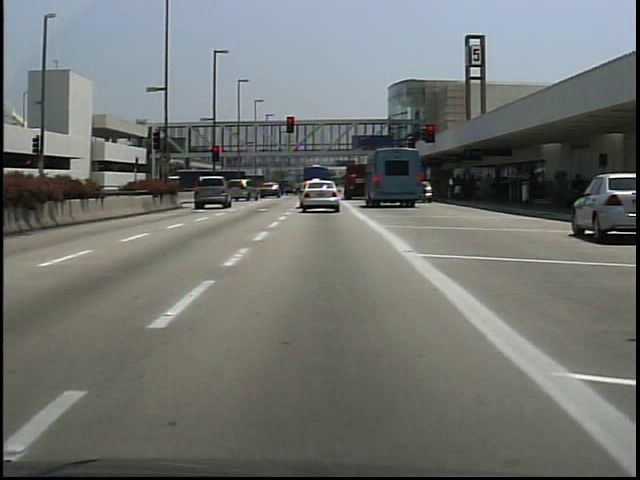person: (568, 169, 587, 223)
